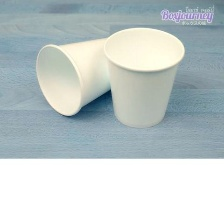paper_cup: (99, 24, 187, 131), (31, 30, 136, 118)
